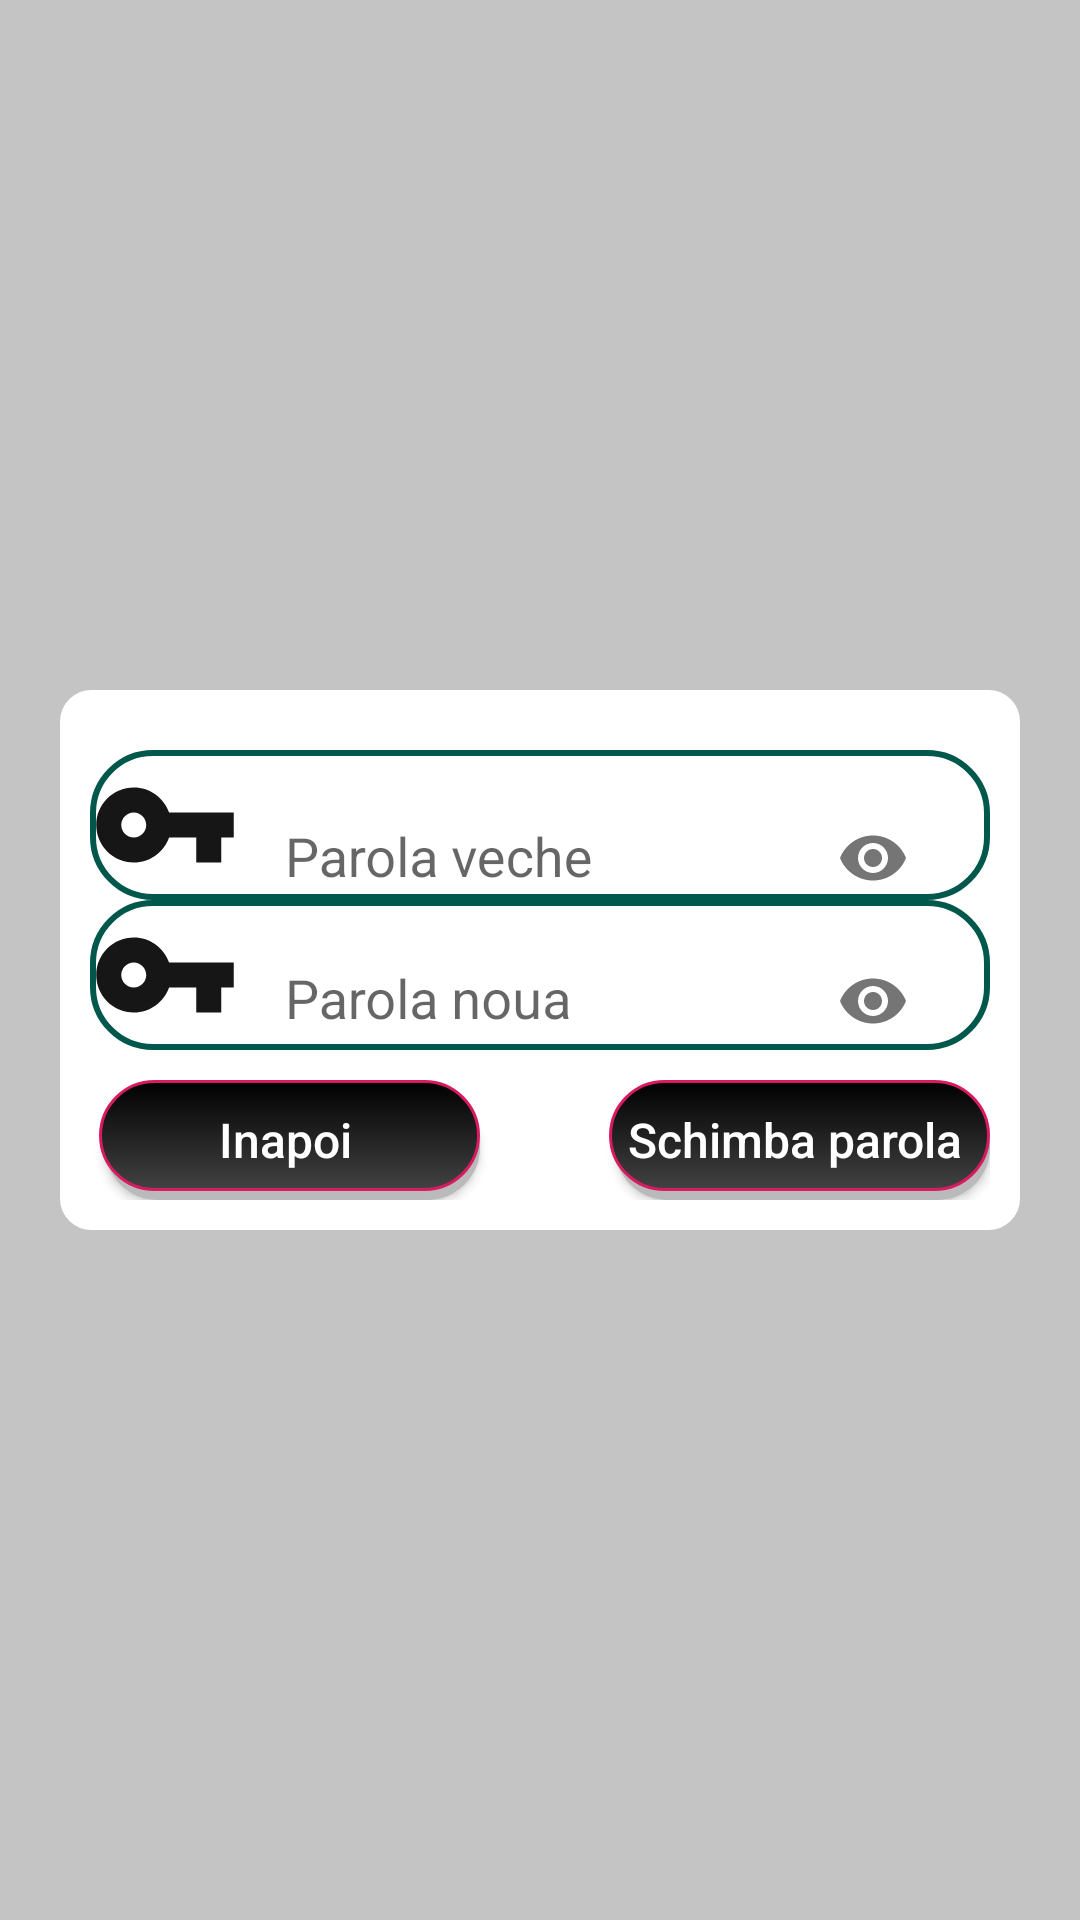

Where to tap for icons on this 1080*1920 app screen, as [x,y]:
password: [165,825], [165,975]
